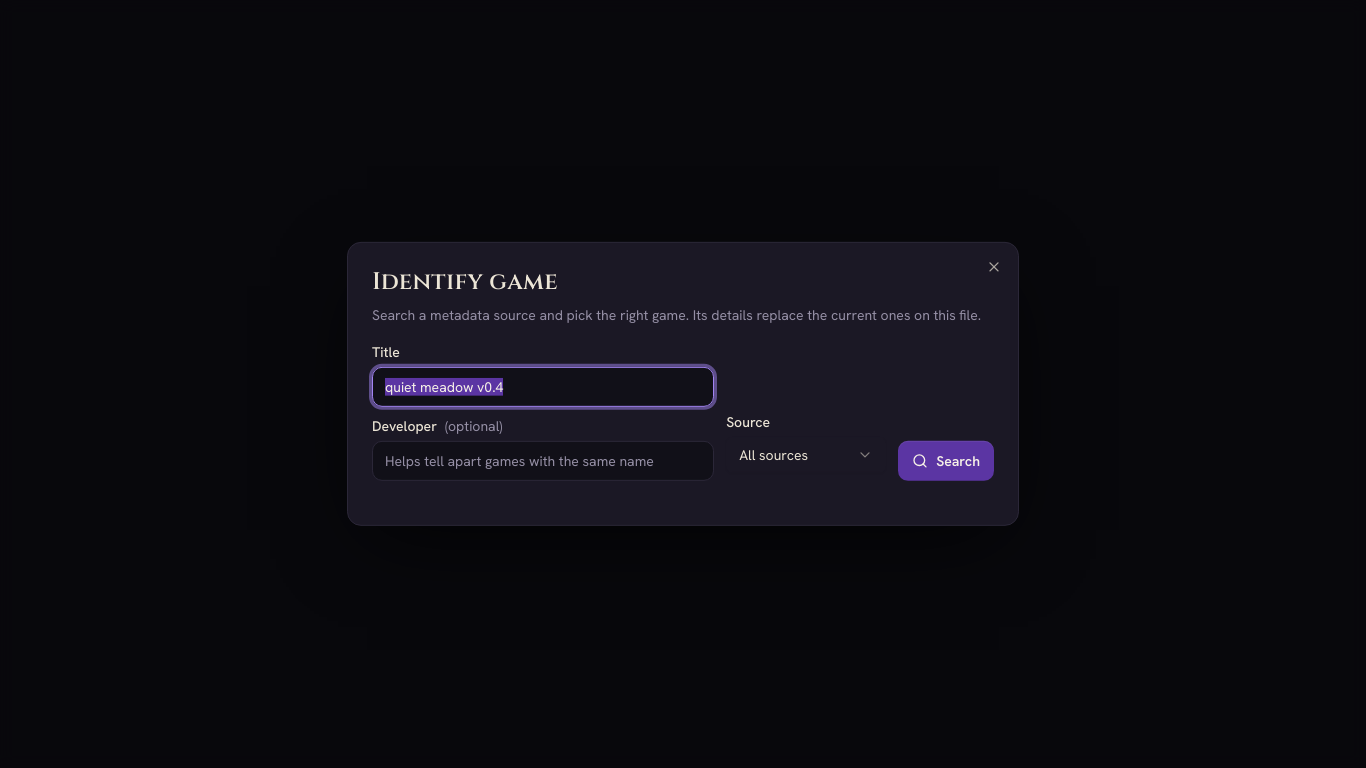
Test case: IdentifyDialog › passes the optional developer and shows each result's developers
Type "Lantern" into the field labelled "Developer (optional)" at (543, 461), box [372,441,714,481]
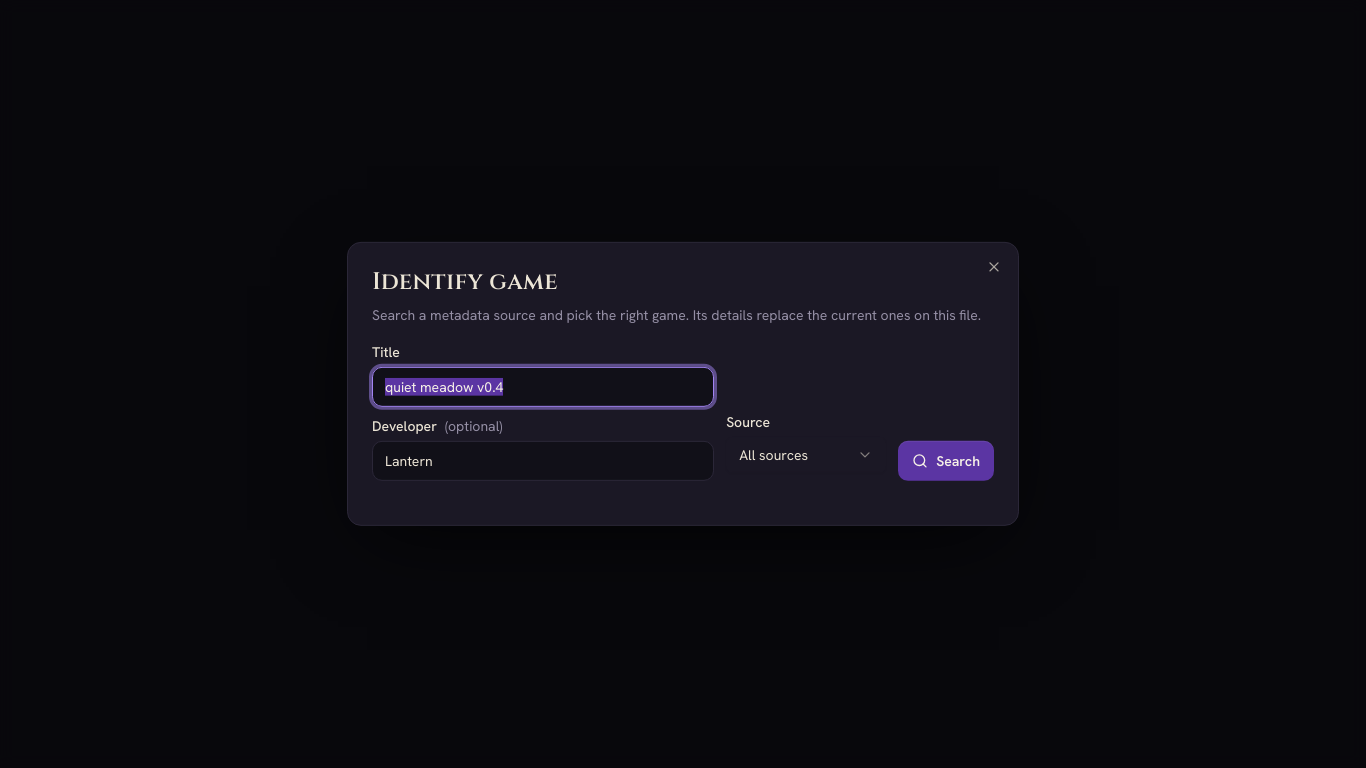
Click the button "Search" at (946, 461), box [898,441,994,481]
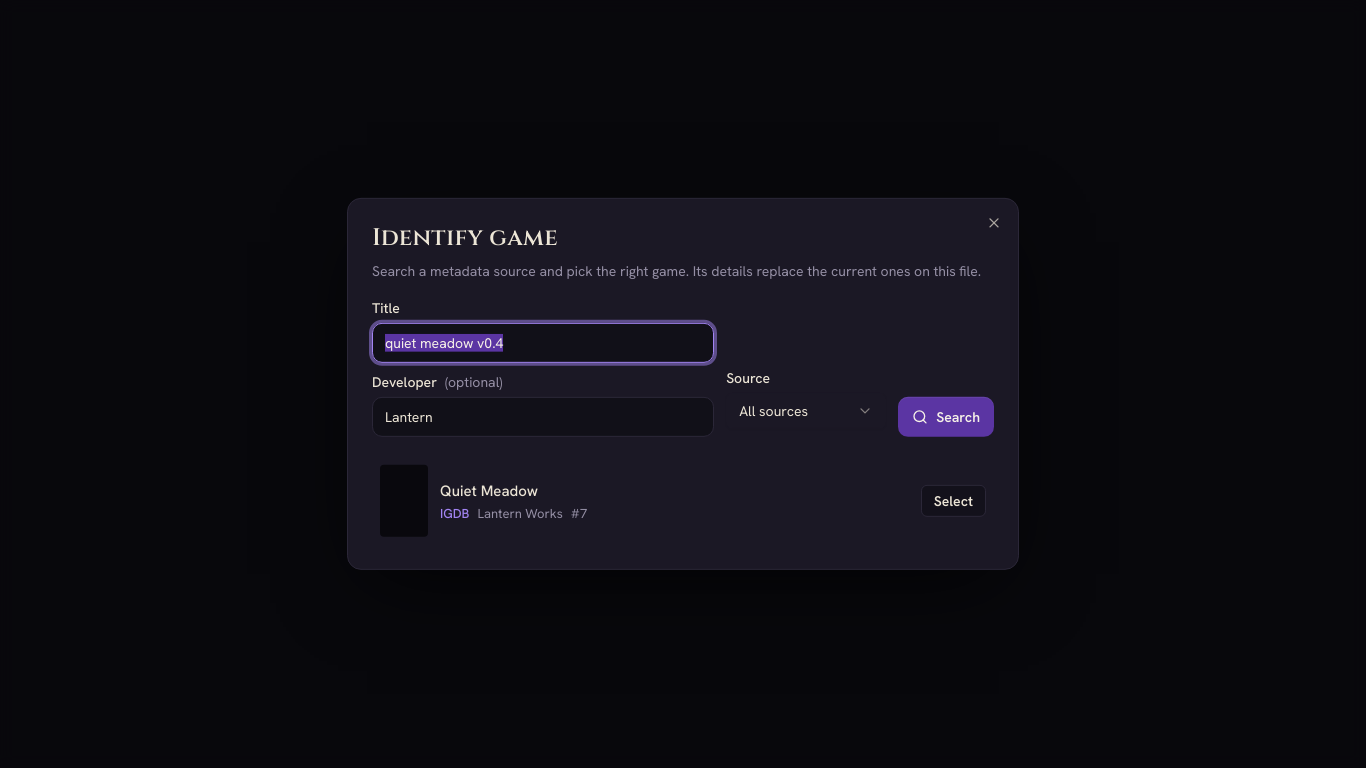
Result: the text "Lantern Works" is shown at [478,505,563,523]
